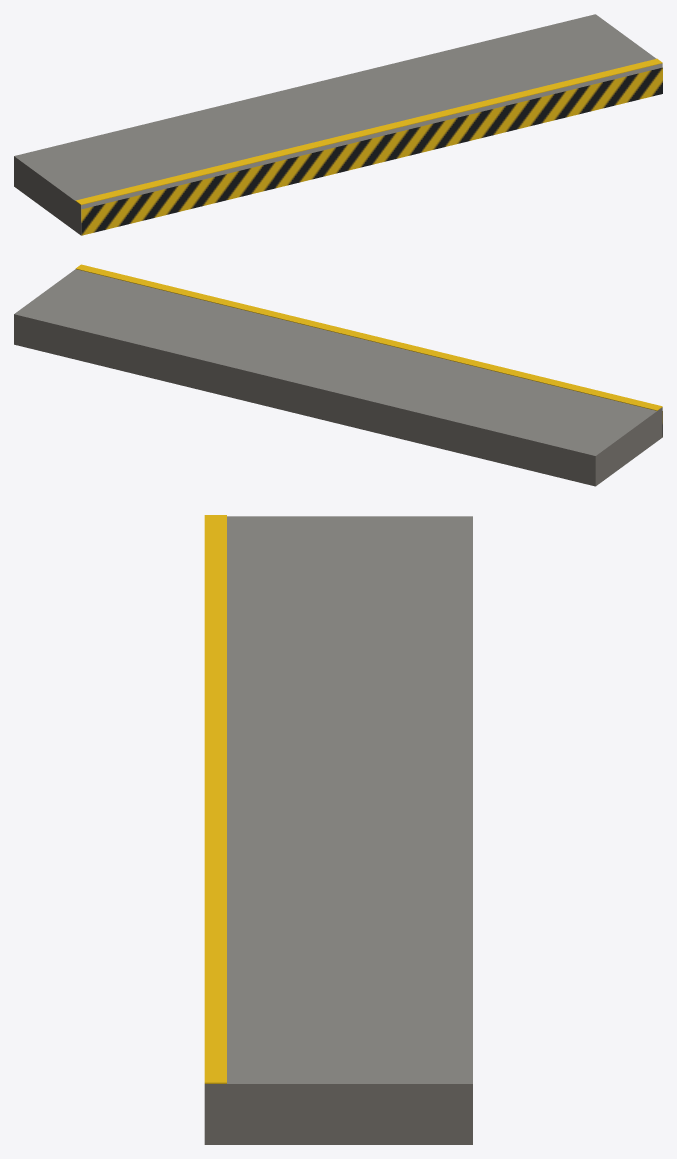
File: SC_Bld_Store_Step_3m.gltf
The picture shows the model from 3 angles, top to bottom: view 1: azimuth 30°, elevation 25°; view 2: azimuth 150°, elevation 25°; view 3: azimuth 270°, elevation 25°; orthographic projection. The views are drawn at different scales.
Visible parts, largest first — view 1: SC_Bld_Store_Step_3m; view 2: SC_Bld_Store_Step_3m; view 3: SC_Bld_Store_Step_3m.
Part boxes in pixels (<box>): SC_Bld_Store_Step_3m: <box>14,14,662,235</box>; SC_Bld_Store_Step_3m: <box>14,264,662,486</box>; SC_Bld_Store_Step_3m: <box>204,515,472,1144</box>.
Size of the model in its own units: 3 by 0.153 by 0.6015.
Materials: 2 (2 with a texture image).
